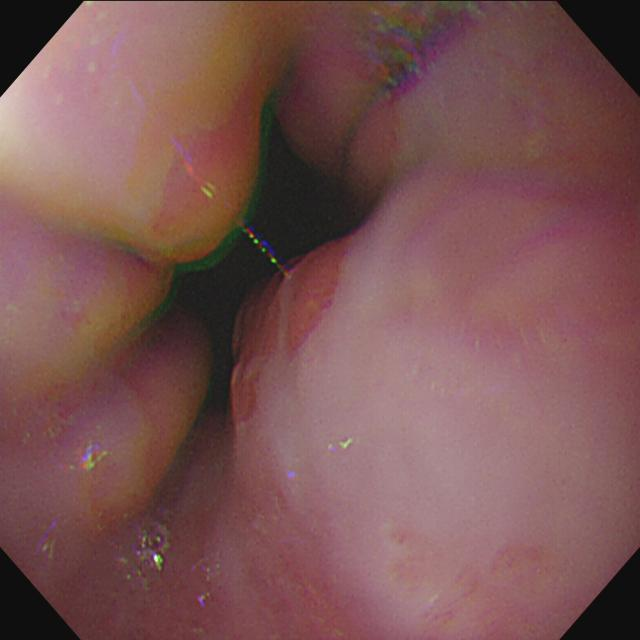E: (154, 107, 390, 425)
T: (137, 523, 171, 571)
